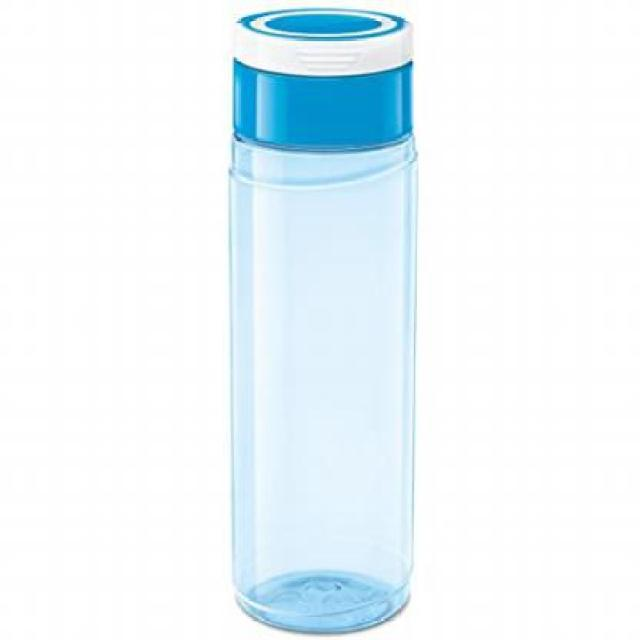Drinking: (222, 0, 425, 638)
